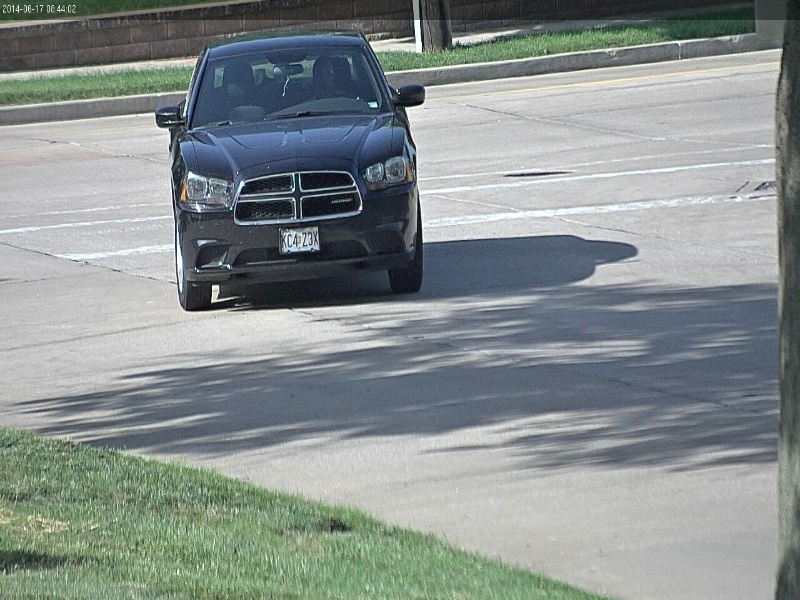licence plate: (277, 227, 321, 254)
